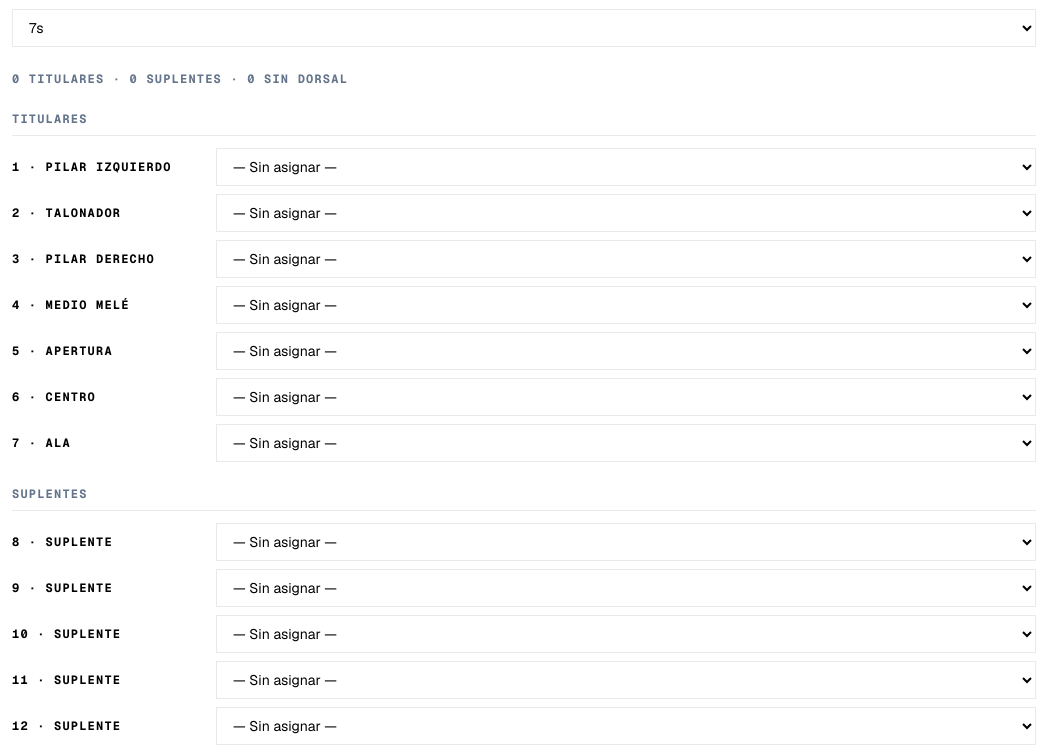
LineupEditor › contador X titulares · Y suplentes · Z sin dorsal
Check: the text "0 titulares · 0 suplentes · 0 sin dorsal" is shown, box [12,71,348,87]
Select "Luis" in the dropdown named "Dorsal 1" at (626, 167), box [216,148,1036,186]
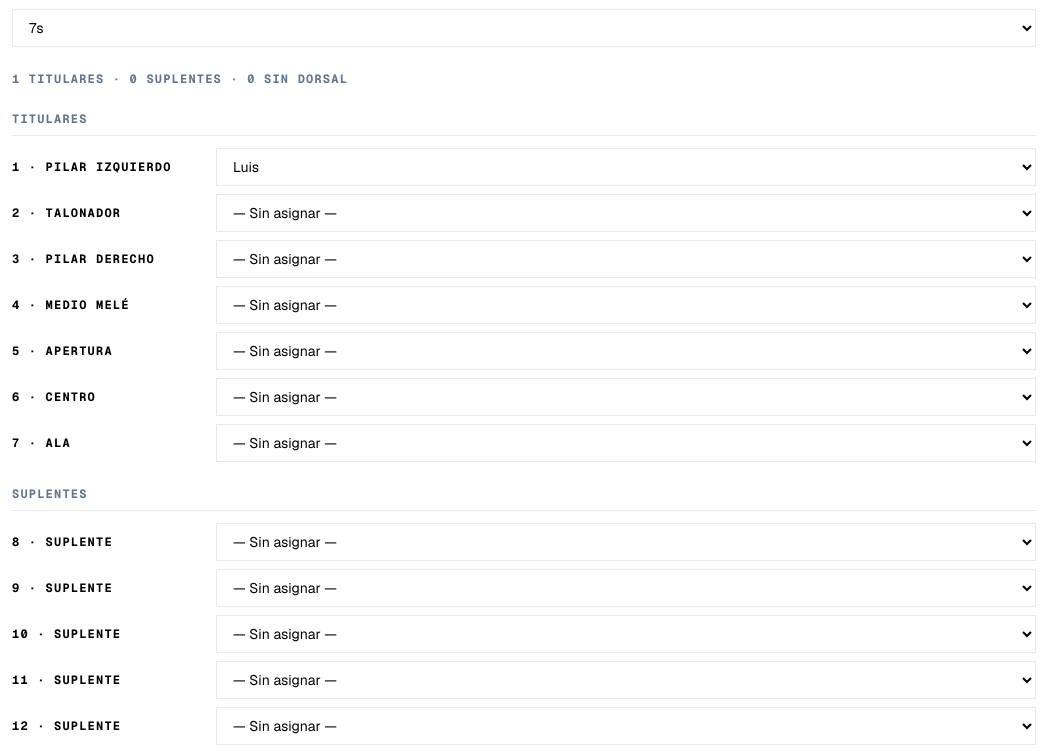
Select "Marta" in the dropdown named "Dorsal 8" at (626, 542), box [216,523,1036,561]
(page scrolled)
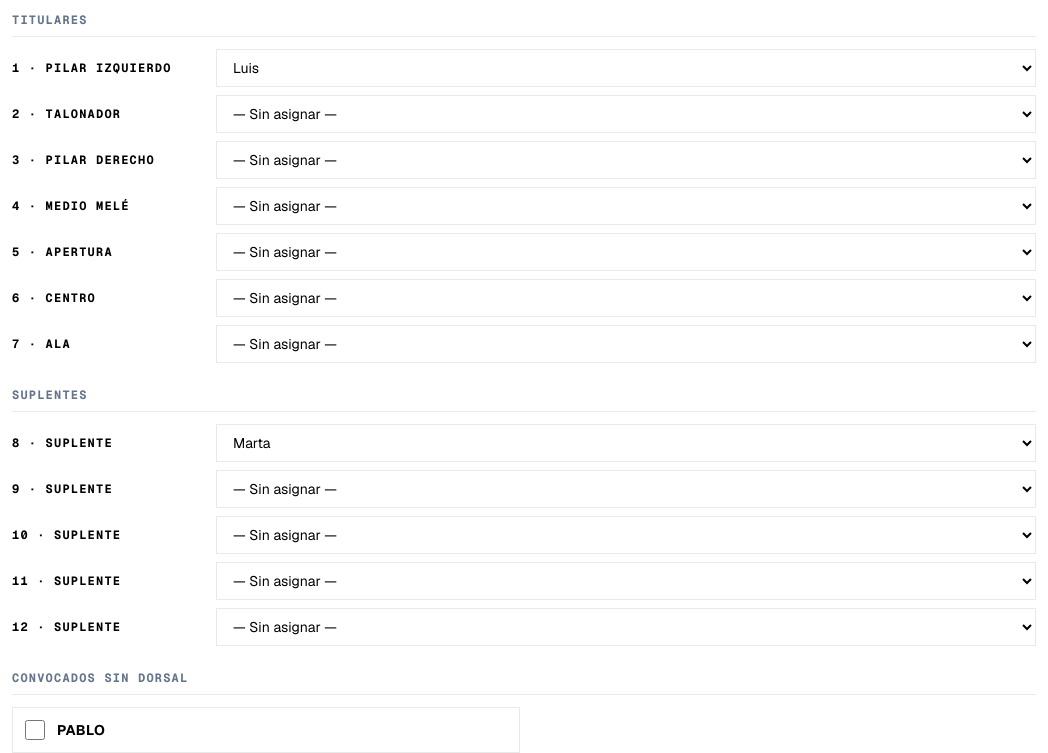
Click the checkbox labelled "Pablo" at (35, 730), box [25,720,45,740]
(page scrolled)
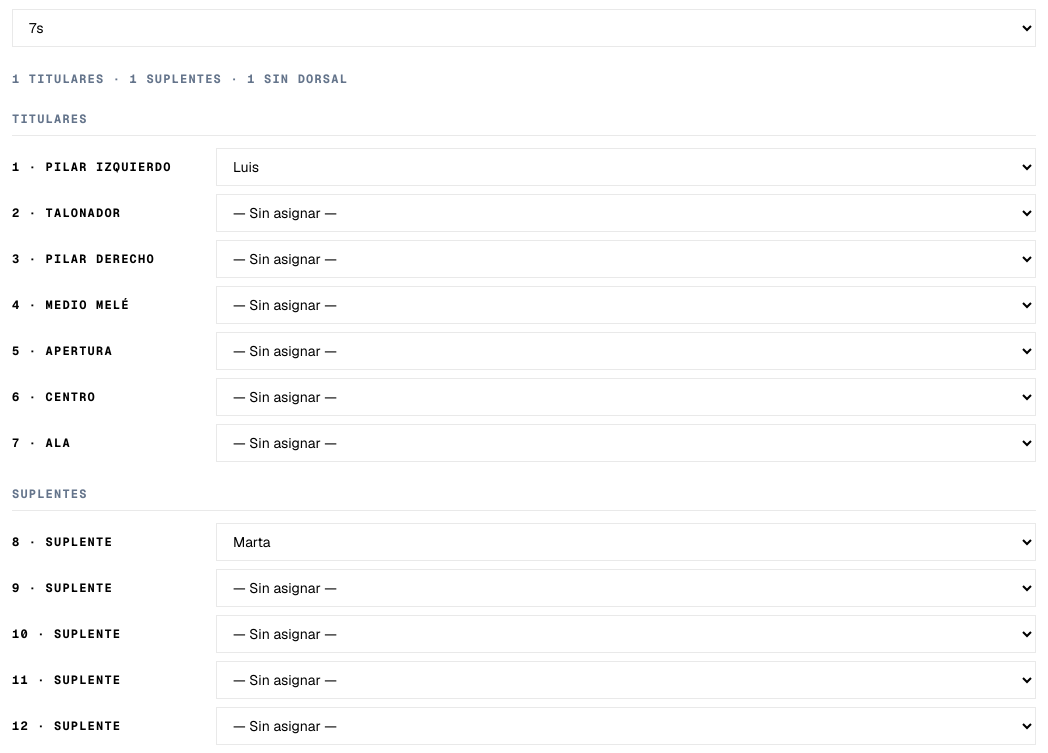
Check: the text "1 titulares · 1 suplentes · 1 sin dorsal" is shown, box [12,71,348,87]
